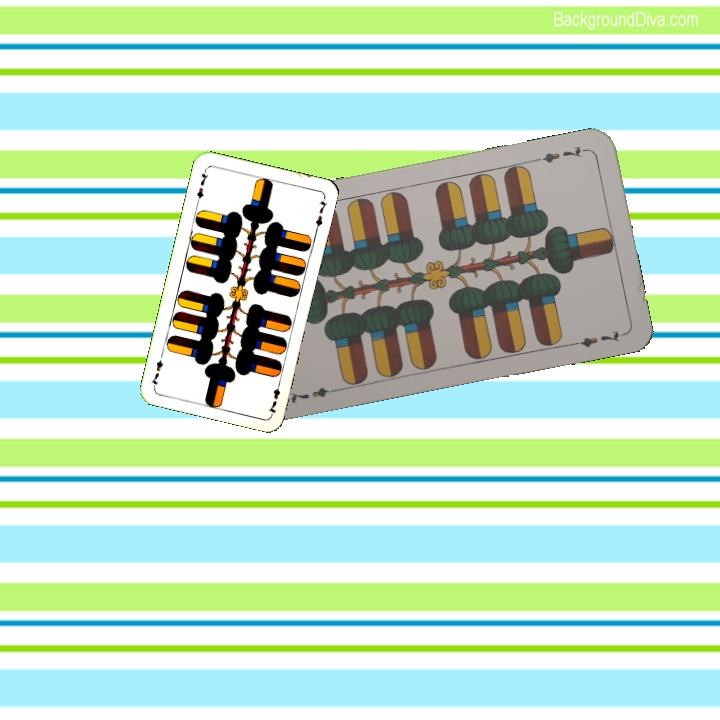E7: (532, 142, 590, 166), (284, 383, 342, 406), (264, 377, 284, 417), (193, 165, 211, 205)
